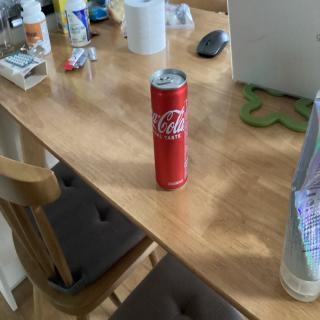cocacola: (148, 68, 192, 194)
